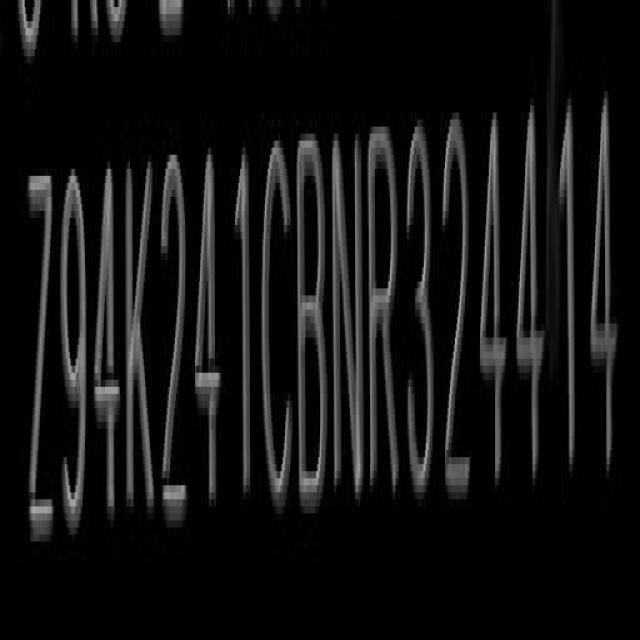1: (552, 90, 578, 494), (232, 142, 251, 520)
2: (444, 107, 473, 511), (161, 143, 191, 531)
3: (408, 114, 437, 509)
4: (589, 85, 623, 486), (514, 95, 546, 497), (477, 102, 507, 508), (194, 146, 226, 524), (94, 163, 121, 537)
9: (62, 167, 89, 553)
B: (298, 130, 330, 512)
C: (260, 131, 293, 513)
K: (127, 147, 159, 534)
N: (333, 122, 364, 508)
R: (368, 118, 400, 502)
Z: (22, 162, 56, 562)
